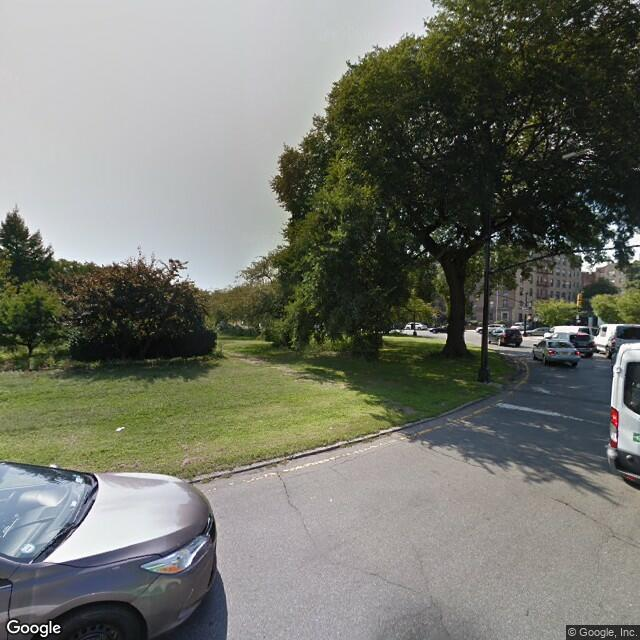litter: (115, 425, 127, 432)
